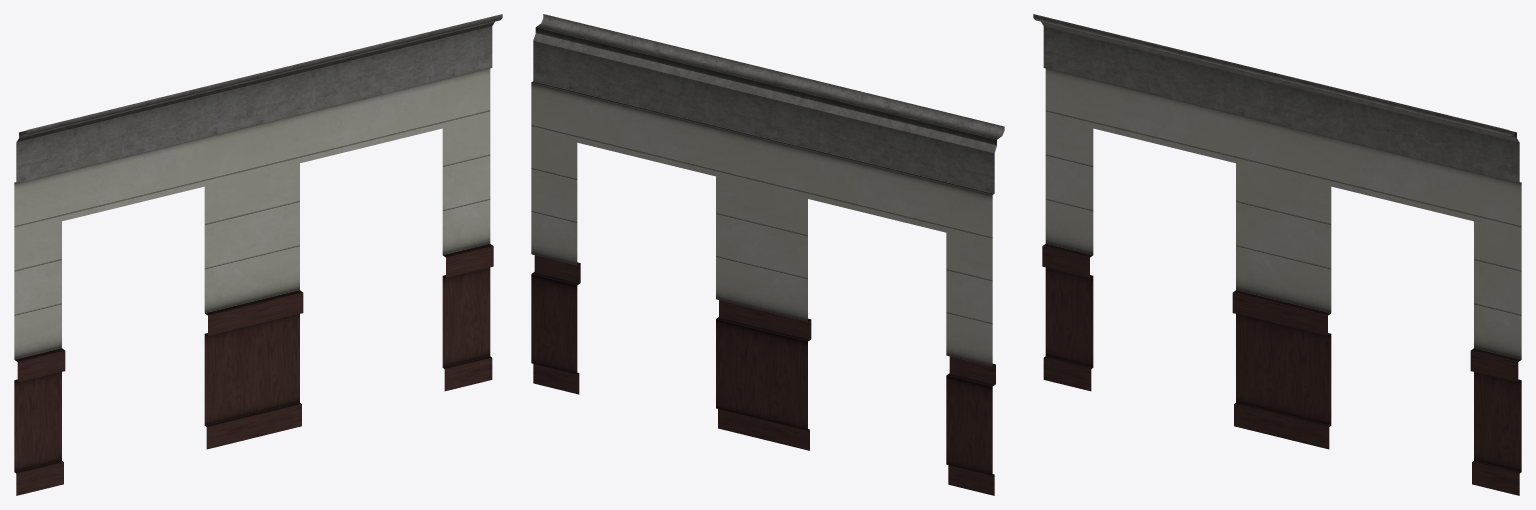
Rendered from Wall 6 Door E.fbx.
3 renders of one model, left to right at view 1: azimuth 30°, elevation 25°; view 2: azimuth 150°, elevation 25°; view 3: azimuth 330°, elevation 25°, orthographic. The views are drawn at different scales.
Parts seen in each view (by area): view 1: Wall_6_Door_E; view 2: Wall_6_Door_E; view 3: Wall_6_Door_E.
Boxes of the visible parts, x1=… form: Wall_6_Door_E: x1=14, y1=14, x2=502, y2=495; Wall_6_Door_E: x1=531, y1=14, x2=1004, y2=495; Wall_6_Door_E: x1=1033, y1=14, x2=1521, y2=495.
Size of the model in its own units: 400 by 300 by 18.12.
